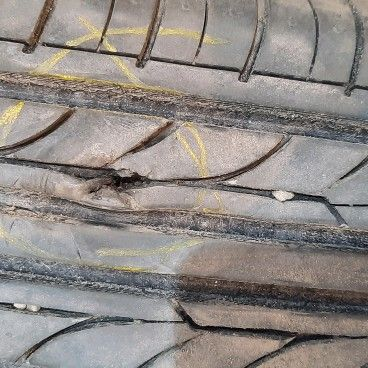tr: (30, 160, 165, 195)
